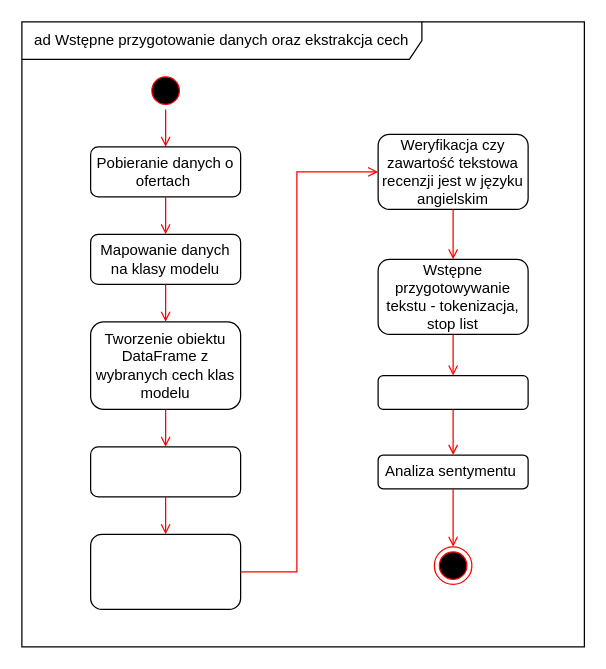
The diagram is 606 pixels wide and 669 high, and some of its shapes have lost their labels. Here are the shapes that lost their labels. From the top down, the centre of each, then its label:
the point at 452,391: Lematyzacja
the point at 165,471: Kodowanie wartości nienumerycznych
the point at 165,571: Normalizacja wartości we wszystkich kolumnach
